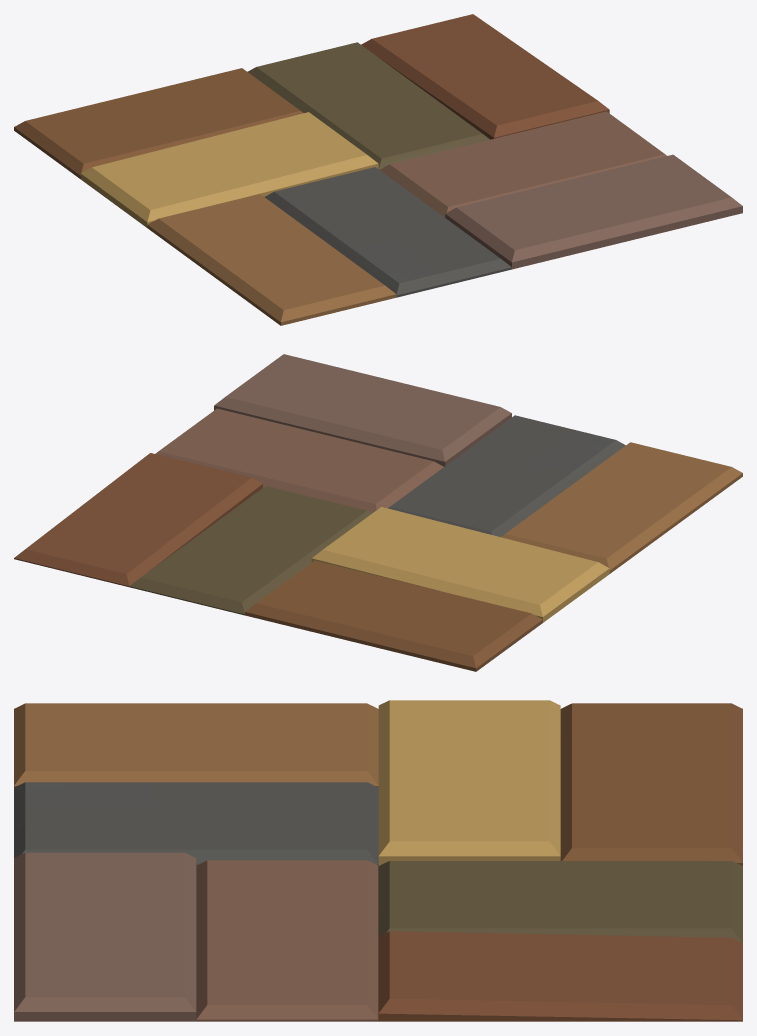
Rendered from chaoMadeira_lab_LoPo.fbx.
The picture shows the model from 3 angles, top to bottom: view 1: azimuth 30°, elevation 25°; view 2: azimuth 150°, elevation 25°; view 3: azimuth 270°, elevation 25°; orthographic projection. The views are drawn at different scales.
Visible parts, largest first — view 1: chaoMadeira_lab_loPo; view 2: chaoMadeira_lab_loPo; view 3: chaoMadeira_lab_loPo.
Part boxes in pixels (bbox=[...]): chaoMadeira_lab_loPo: bbox=[14, 14, 742, 325]; chaoMadeira_lab_loPo: bbox=[14, 354, 742, 671]; chaoMadeira_lab_loPo: bbox=[14, 700, 742, 1021].
Size of the model in its own units: 200 by 6.53 by 200.
